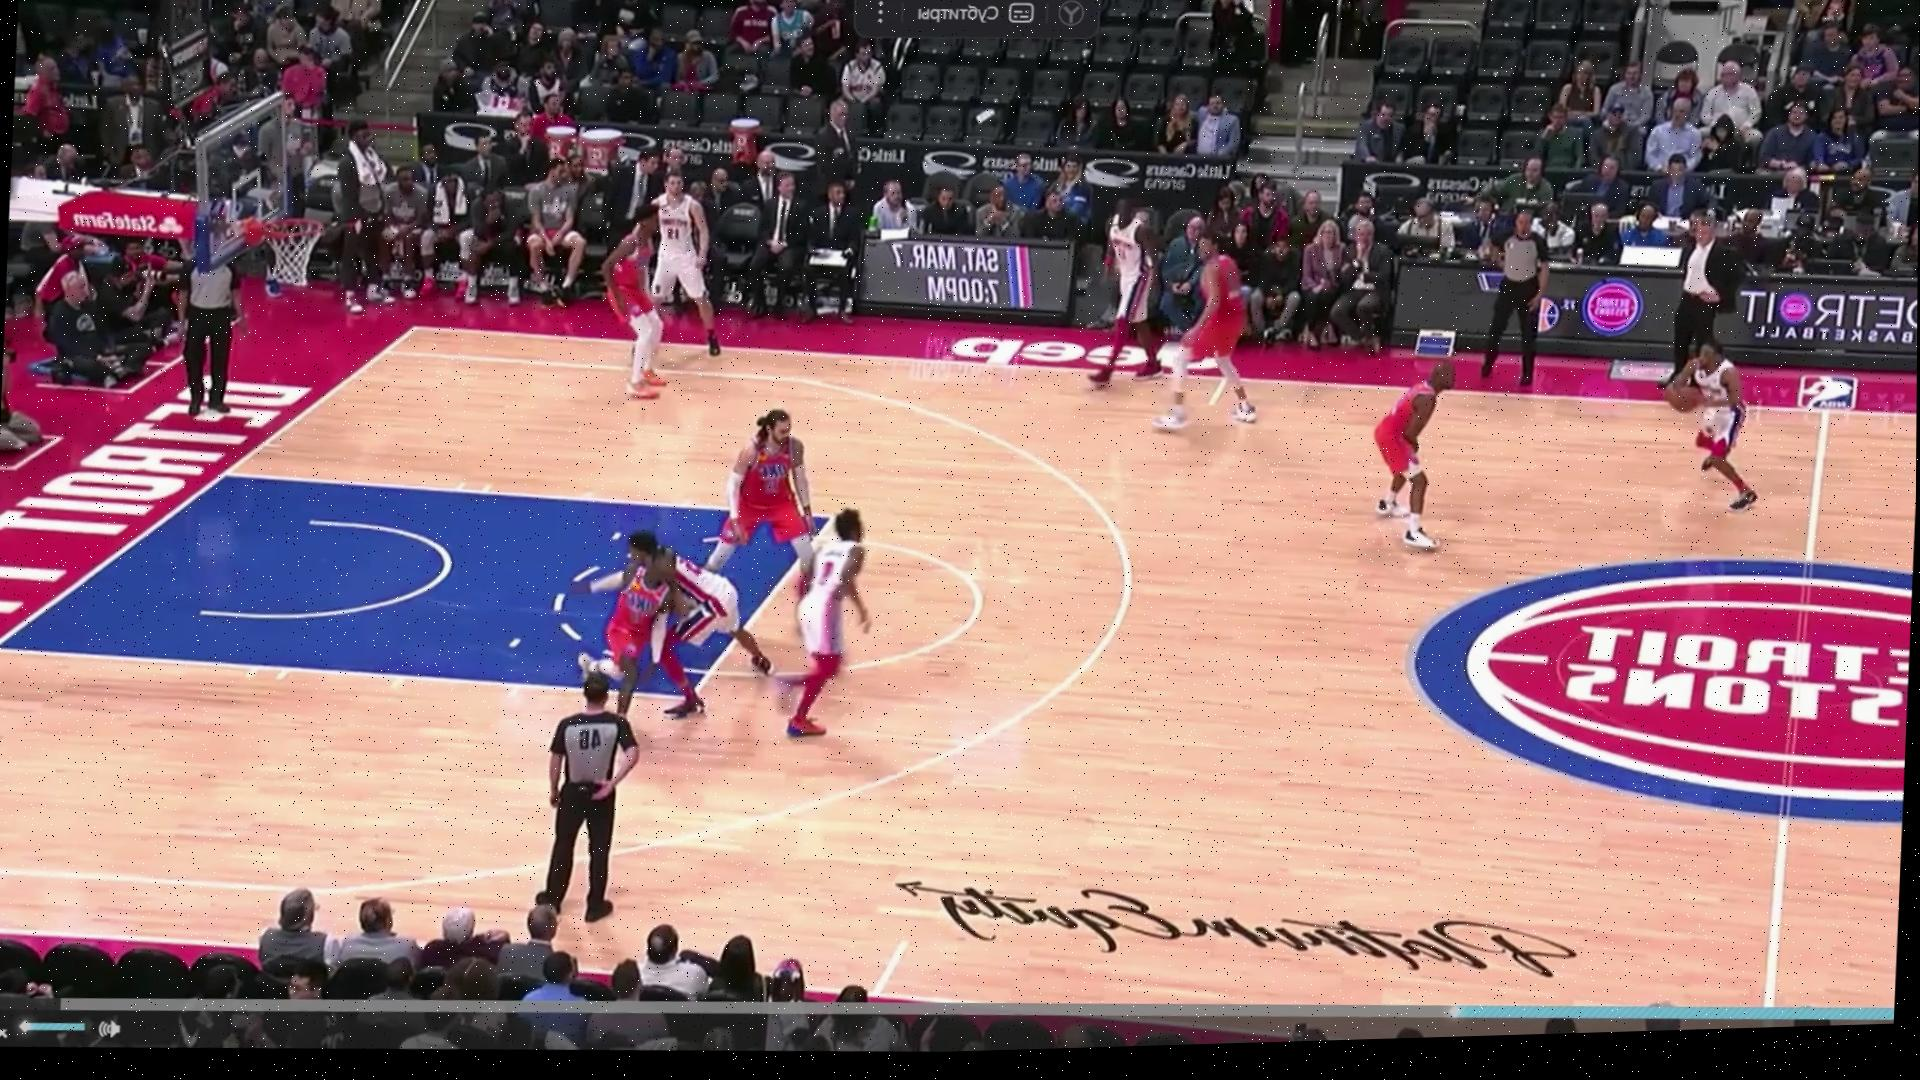foul: (544, 525, 758, 729)
